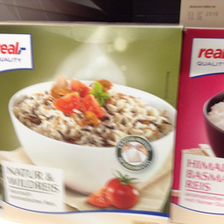rice: (1, 21, 182, 224), (170, 28, 224, 223)
